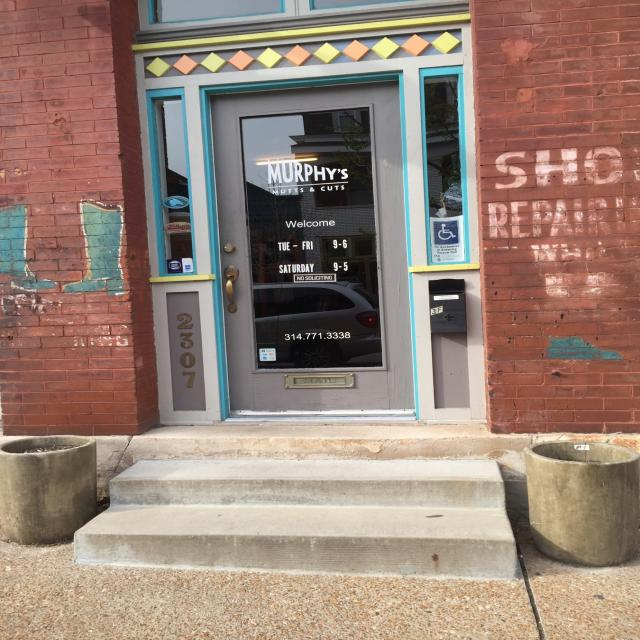AVOID: (82, 434, 516, 580)
